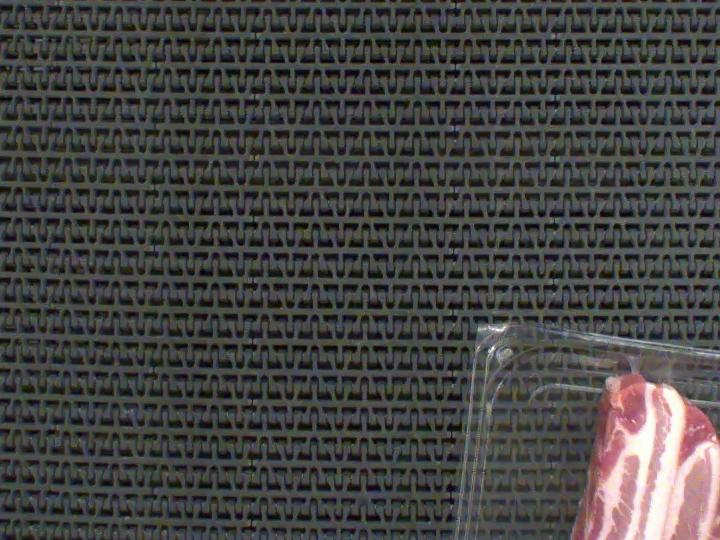packaging-error: (629, 349, 679, 388)
